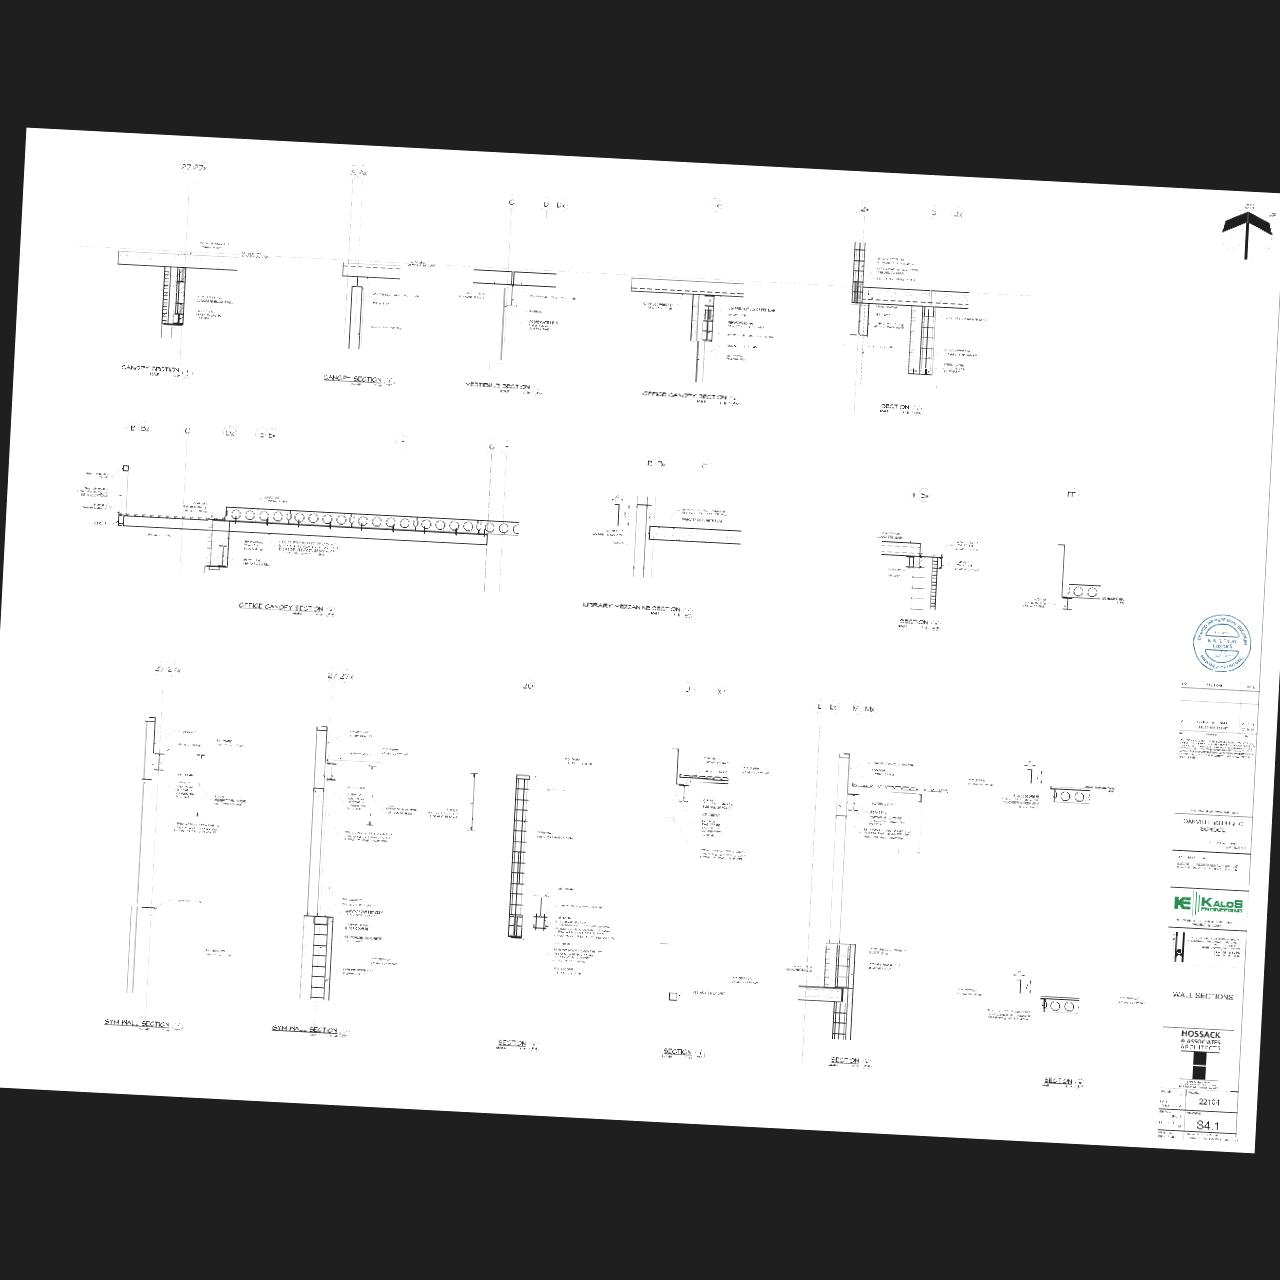title: (581, 599, 694, 620), (237, 599, 338, 618), (641, 388, 741, 407), (102, 1015, 184, 1034), (462, 379, 544, 396), (120, 361, 195, 380), (270, 1023, 350, 1040), (320, 372, 395, 388), (896, 615, 942, 632), (660, 1046, 706, 1062), (492, 1037, 540, 1053), (825, 1055, 873, 1070), (877, 401, 924, 416), (1040, 1076, 1088, 1090)
